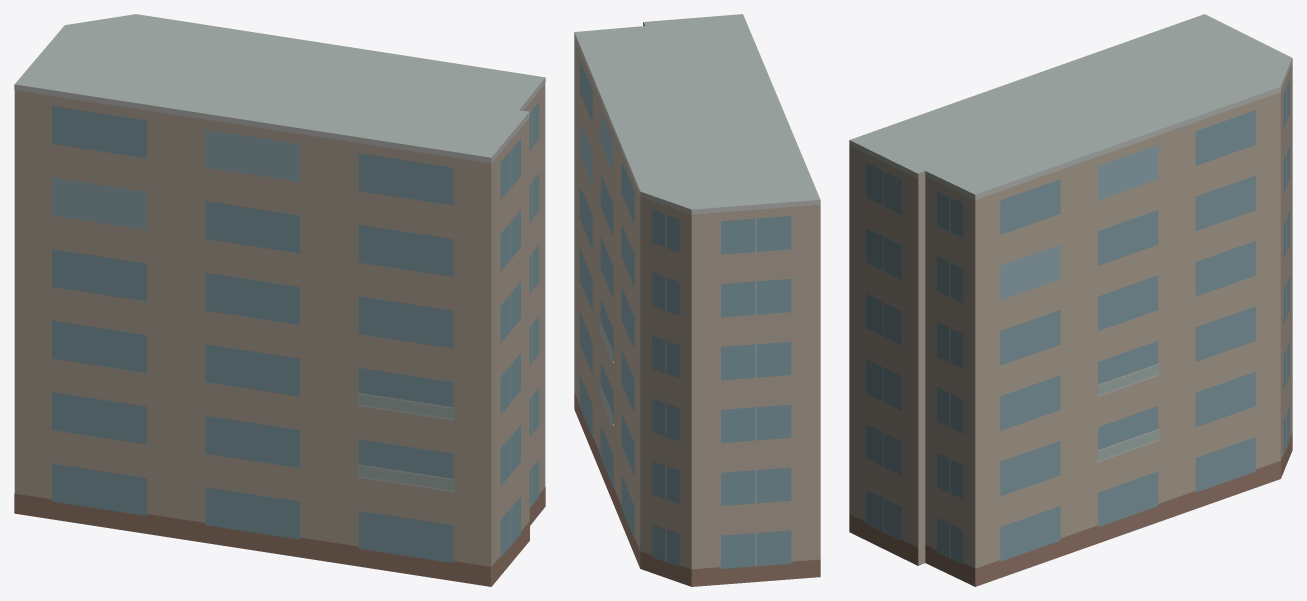
The model's file is survey-upis-32740442.glb.
The picture shows the model from 3 angles, left to right: view 1: azimuth 30°, elevation 25°; view 2: azimuth 150°, elevation 25°; view 3: azimuth 270°, elevation 25°; orthographic projection. The views are drawn at different scales.
Parts seen in each view (by area): view 1: survey-upis-32740442.tmp; view 2: survey-upis-32740442.tmp; view 3: survey-upis-32740442.tmp.
Part boxes in pixels (x1,y1,x2,y2): survey-upis-32740442.tmp: [14, 14, 545, 586]; survey-upis-32740442.tmp: [574, 14, 820, 586]; survey-upis-32740442.tmp: [849, 14, 1292, 586].
Bounding box in the file's own units: 18.1 × 18.3 × 18.75.
